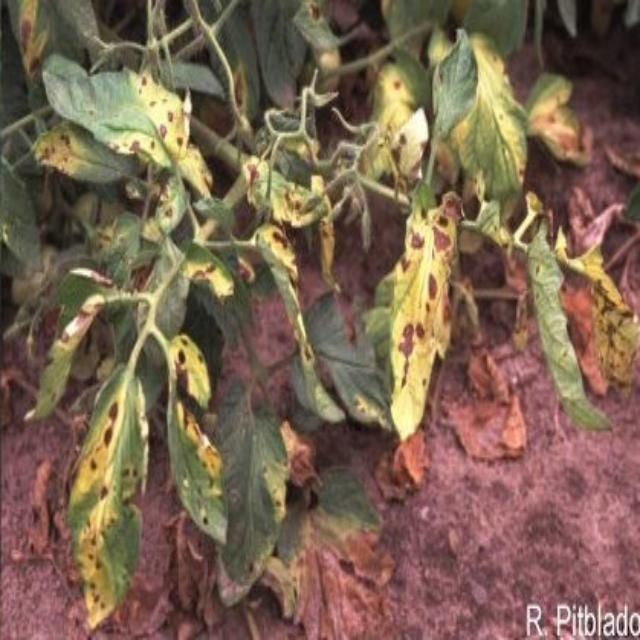Early_blight: (391, 192, 466, 442), (288, 518, 398, 639), (109, 77, 215, 201), (451, 36, 526, 197), (441, 324, 525, 454), (71, 387, 112, 629), (582, 254, 640, 395), (366, 65, 430, 192), (257, 224, 313, 368), (162, 509, 221, 640), (243, 159, 327, 228), (21, 457, 72, 564), (531, 80, 592, 159), (173, 405, 223, 501), (372, 434, 434, 506), (276, 419, 323, 508), (164, 332, 211, 406), (28, 122, 86, 177), (53, 297, 101, 359), (181, 254, 235, 303), (16, 1, 46, 81), (263, 466, 290, 521), (228, 62, 251, 117), (235, 253, 257, 284)
